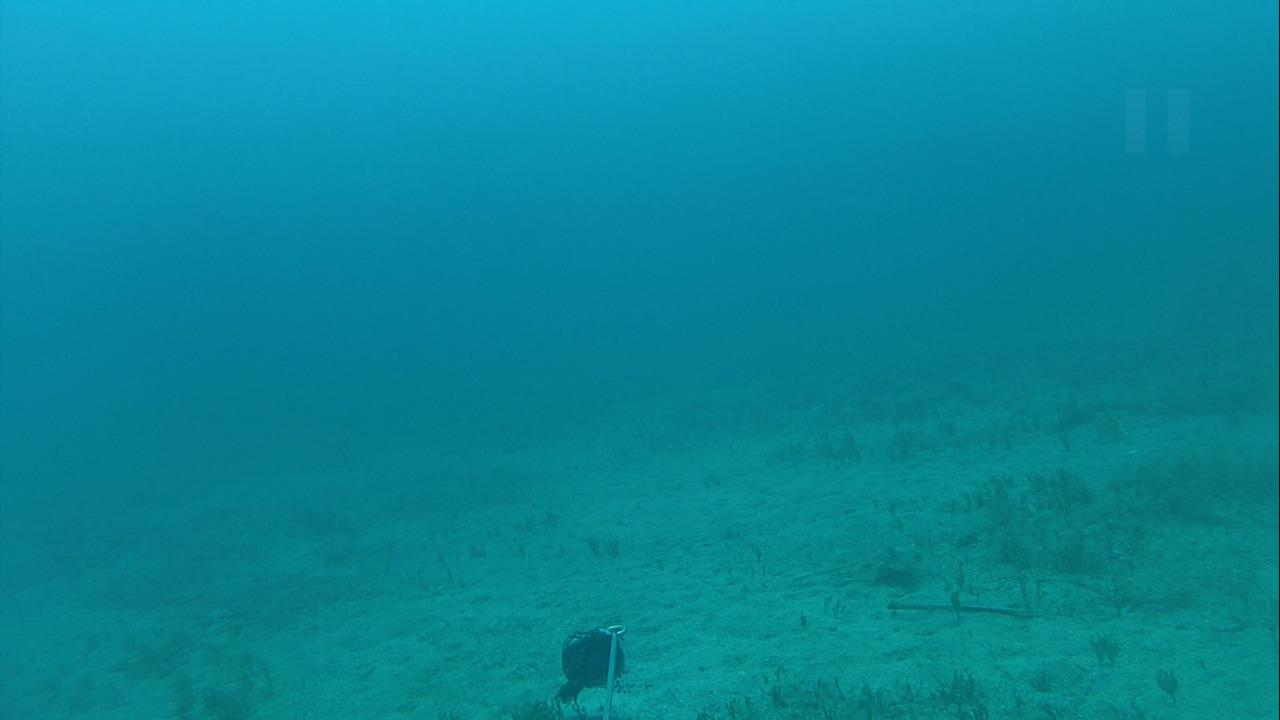dactylopterus: (804, 499, 928, 589)
